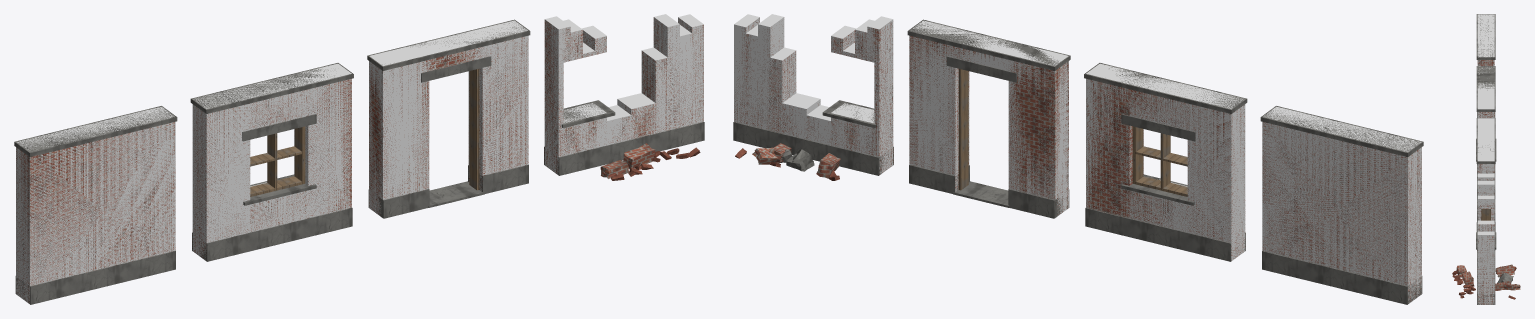
Rendered from walls_2.glb.
The picture shows the model from 3 angles, left to right: view 1: azimuth 30°, elevation 25°; view 2: azimuth 150°, elevation 25°; view 3: azimuth 270°, elevation 25°; orthographic projection. The views are drawn at different scales.
Parts seen in each view (by area): view 1: COL_wall_brick_solid, wall_brick_solid, COL_wall_brick_window, COL_wall_brick_door, wall_brick_window, COL_wall_brick_ruined, wall_brick_door, wall_brick_ruined; view 2: COL_wall_brick_solid, wall_brick_window, wall_brick_solid, COL_wall_brick_window, wall_brick_door, COL_wall_brick_door, COL_wall_brick_ruined, wall_brick_ruined; view 3: COL_wall_brick_ruined, wall_brick_ruined, COL_wall_brick_door, COL_wall_brick_solid, wall_brick_window, COL_wall_brick_window, wall_brick_solid, wall_brick_door.
Boxes of the visible parts, x1,y1,x2,y2 form: COL_wall_brick_solid: [16, 107, 175, 303]; wall_brick_solid: [14, 106, 177, 304]; COL_wall_brick_window: [192, 63, 351, 259]; COL_wall_brick_door: [369, 20, 528, 215]; wall_brick_window: [190, 63, 353, 261]; COL_wall_brick_ruined: [544, 14, 703, 174]; wall_brick_door: [367, 19, 530, 218]; wall_brick_ruined: [544, 17, 704, 180]; COL_wall_brick_solid: [1262, 106, 1421, 302]; wall_brick_window: [1084, 63, 1247, 261]; wall_brick_solid: [1260, 106, 1423, 304]; COL_wall_brick_window: [1086, 63, 1245, 260]; wall_brick_door: [907, 19, 1070, 218]; COL_wall_brick_door: [909, 20, 1068, 215]; COL_wall_brick_ruined: [734, 14, 893, 174]; wall_brick_ruined: [733, 18, 893, 180]; COL_wall_brick_ruined: [1477, 173, 1494, 304]; wall_brick_ruined: [1452, 178, 1520, 304]; COL_wall_brick_door: [1477, 118, 1494, 173]; COL_wall_brick_solid: [1477, 14, 1494, 65]; wall_brick_window: [1476, 66, 1496, 199]; COL_wall_brick_window: [1477, 66, 1494, 117]; wall_brick_solid: [1476, 14, 1495, 65]; wall_brick_door: [1476, 118, 1495, 250].
Bounding box in the file's own units: 13.92 × 3 × 2.02.
4 materials, 4 textured.
